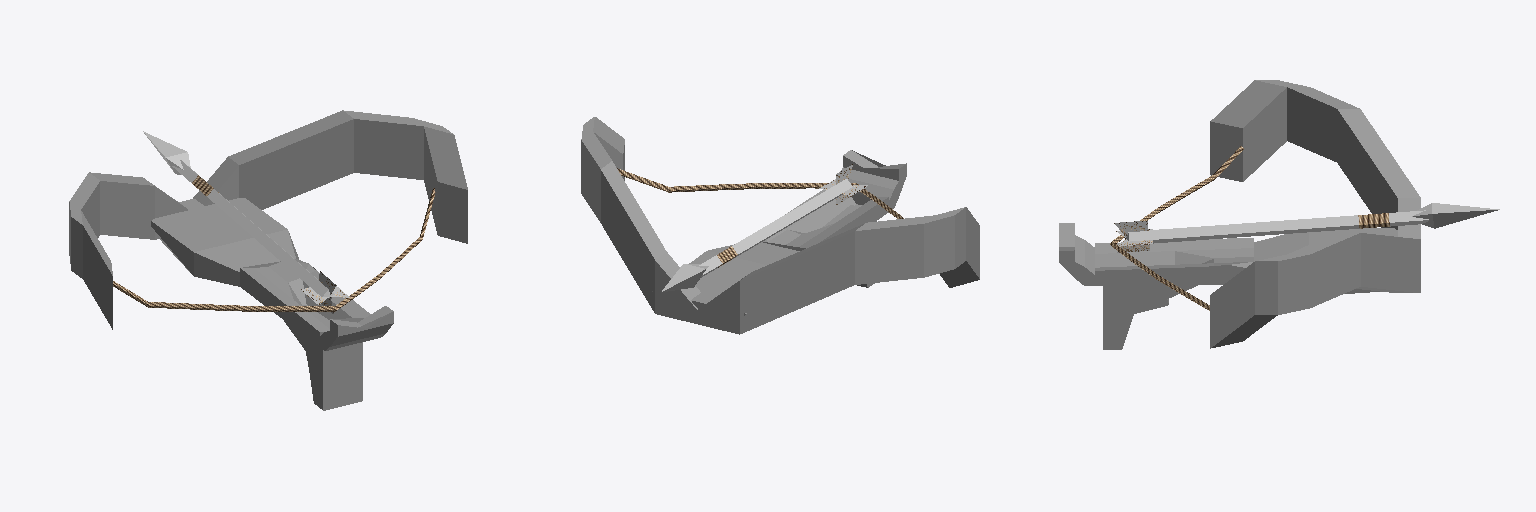
The picture shows the model from 3 angles: view 1: azimuth 30°, elevation 25°; view 2: azimuth 150°, elevation 25°; view 3: azimuth 270°, elevation 25°; orthographic projection.
Visible parts, largest first — view 1: Cube_Cube.001, Plane; view 2: Cube_Cube.001, Plane; view 3: Cube_Cube.001, Plane.
Boxes of the visible parts, <box> form: Cube_Cube.001: <box>69,110,467,410</box>; Plane: <box>143,131,349,313</box>; Cube_Cube.001: <box>581,117,979,334</box>; Plane: <box>661,164,867,292</box>; Cube_Cube.001: <box>1059,80,1420,349</box>; Plane: <box>1114,203,1499,252</box>.
Size of the model in its own units: 4.9 by 2.15 by 5.04.
7 materials, 1 textured.